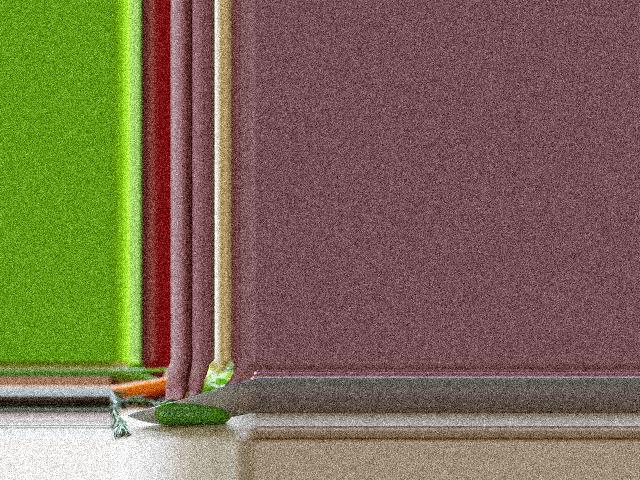cucumber: (154, 403, 229, 426)
